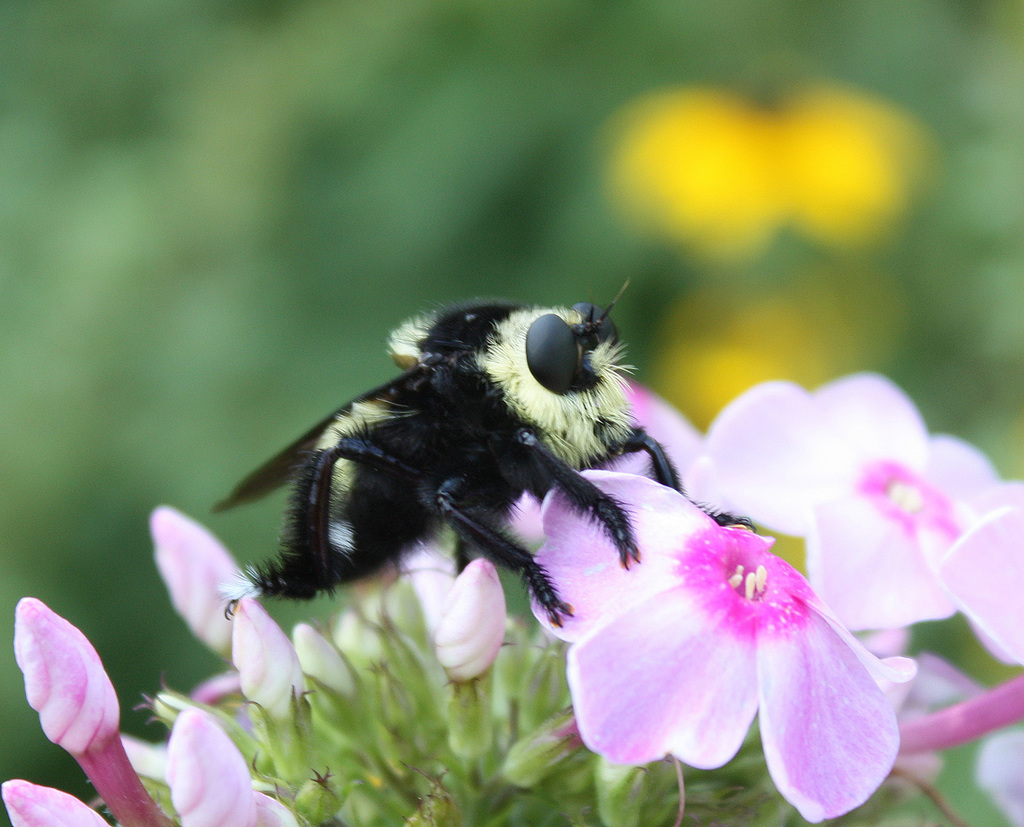not_bumblebee: (212, 274, 759, 626)
